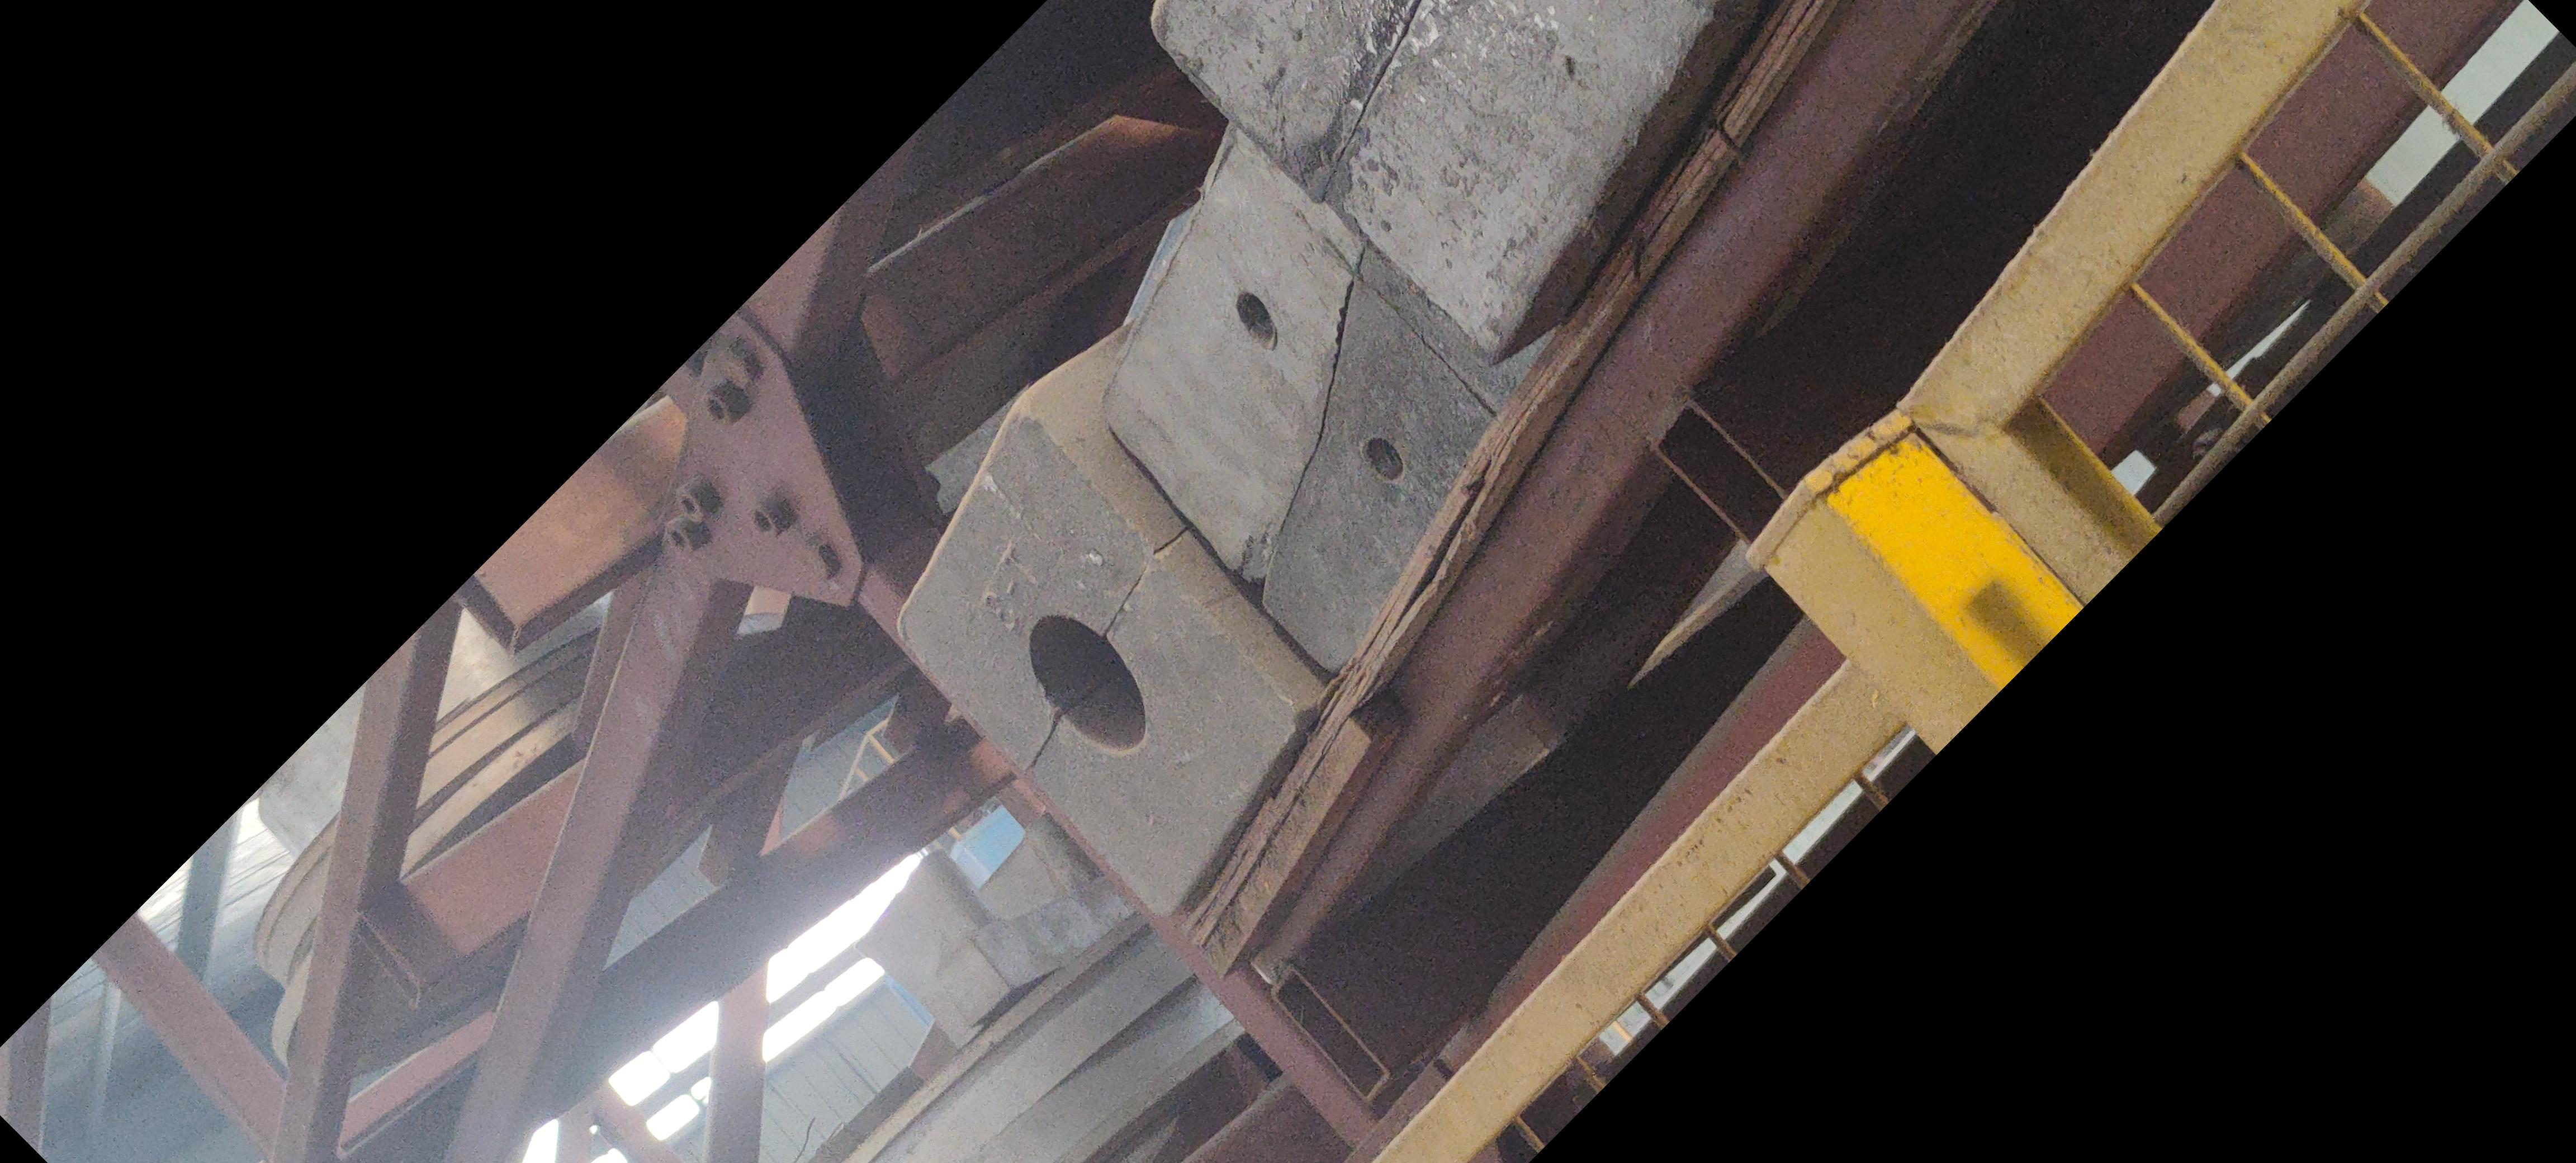pouring hole: (1028, 614, 1147, 754)
